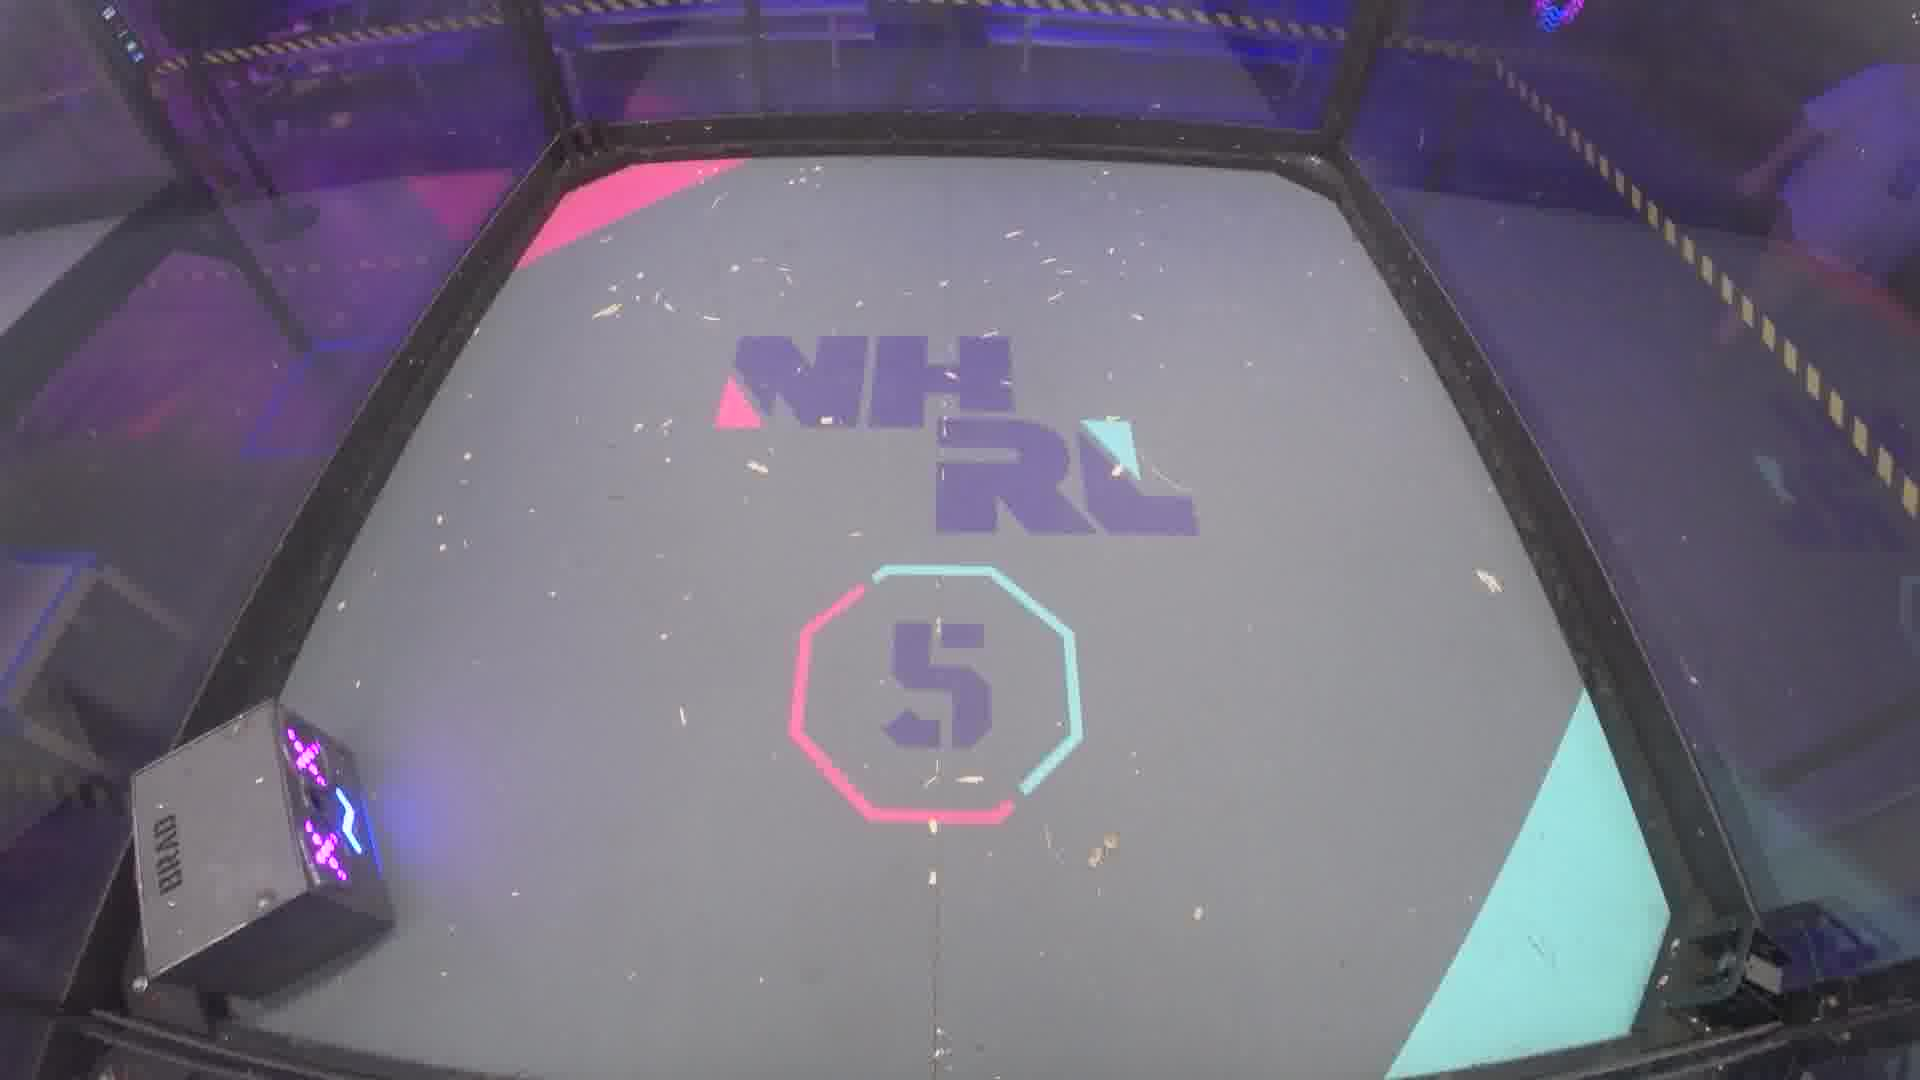housebot: (127, 700, 393, 998)
